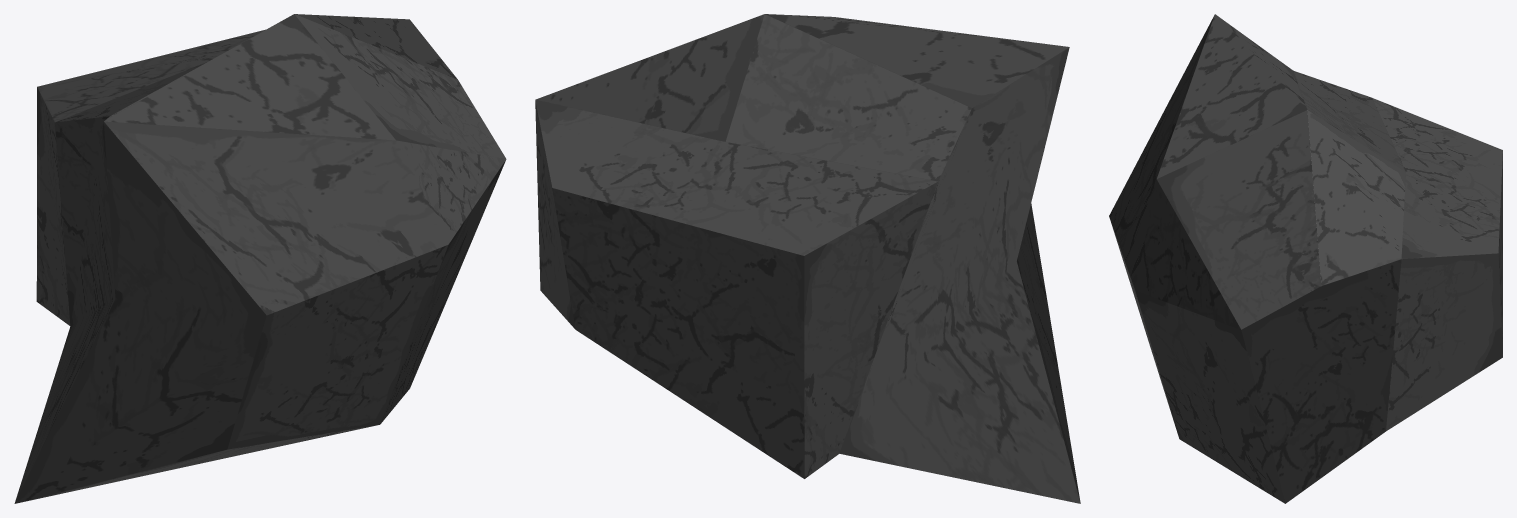
The model's file is rock2.fbx.
The picture shows the model from 3 angles, left to right: view 1: azimuth 30°, elevation 25°; view 2: azimuth 150°, elevation 25°; view 3: azimuth 270°, elevation 25°; orthographic projection. The views are drawn at different scales.
Visible parts, largest first — view 1: Cube; view 2: Cube; view 3: Cube.
Boxes of the visible parts, box(x1,y1,x2,y2) form: Cube: box(14, 14, 506, 503); Cube: box(535, 14, 1080, 503); Cube: box(1109, 14, 1502, 503).
Size of the model in its own units: 19566 by 16391 by 15999.
1 material, 1 textured.
